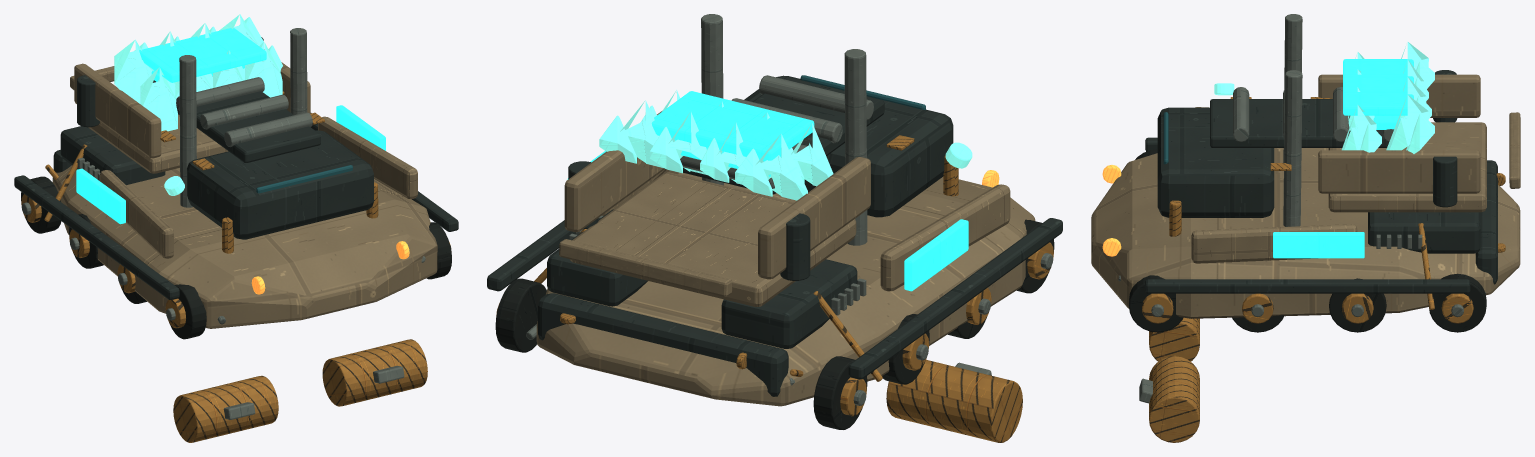
The model's file is drift_harvester.glb.
3 renders of one model, left to right at view 1: azimuth 30°, elevation 25°; view 2: azimuth 150°, elevation 25°; view 3: azimuth 270°, elevation 25°, orthographic. The views are drawn at different scales.
Parts seen in each view (by area): view 1: Faction detail · Vehicle / armor.007, Faction detail · Vehicle / dark.007, Faction detail · Vehicle / armor_light.007, Powered cutter drum.001, Powered cutter drum, Faction detail · Vehicle / steel.007, TeamColor, Faction detail · Vehicle / steel.001, Faction detail · Vehicle / rubber.007, TeamColor flank details, Faction detail · Vehicle / hazard.007, Faction detail · Vehicle / energy.001 (+8 smaller); view 2: Faction detail · Vehicle / armor.007, Faction detail · Vehicle / dark.007, Faction detail · Vehicle / armor_light.007, Powered cutter drum, Faction detail · Vehicle / rubber.007, TeamColor, Faction detail · Vehicle / steel.001, Faction detail · Vehicle / steel.007, Hinged mineral unloading gate, Faction detail · Vehicle / hazard.007, Faction detail · Vehicle / energy.005, TeamColor flank details (+5 smaller); view 3: Faction detail · Vehicle / armor.007, Faction detail · Vehicle / dark.007, Faction detail · Vehicle / armor_light.007, Faction detail · Vehicle / rubber.007, Powered cutter drum.001, Faction detail · Vehicle / steel.001, TeamColor, Faction detail · Vehicle / hazard.007, TeamColor flank details, Faction detail · Vehicle / steel.007, Powered cutter drum, Faction detail · Vehicle / energy.008 (+5 smaller).
Part boxes in pixels (x1=…): Faction detail · Vehicle / armor.007: x1=52, y1=49, x2=437, y2=328; Faction detail · Vehicle / dark.007: x1=14, y1=37, x2=458, y2=299; Faction detail · Vehicle / armor_light.007: x1=88, y1=114, x2=417, y2=258; Powered cutter drum.001: x1=322, y1=339, x2=427, y2=406; Powered cutter drum: x1=173, y1=375, x2=278, y2=442; Faction detail · Vehicle / steel.007: x1=21, y1=77, x2=450, y2=324; TeamColor: x1=139, y1=28, x2=266, y2=82; Faction detail · Vehicle / steel.001: x1=179, y1=28, x2=307, y2=207; Faction detail · Vehicle / rubber.007: x1=21, y1=176, x2=451, y2=339; TeamColor flank details: x1=76, y1=65, x2=385, y2=224; Faction detail · Vehicle / hazard.007: x1=21, y1=144, x2=451, y2=328; Faction detail · Vehicle / energy.001: x1=140, y1=67, x2=177, y2=131; Faction detail · Vehicle / armor.007: x1=536, y1=111, x2=1035, y2=406; Faction detail · Vehicle / dark.007: x1=487, y1=75, x2=1062, y2=396; Faction detail · Vehicle / armor_light.007: x1=570, y1=169, x2=1010, y2=306; Powered cutter drum: x1=886, y1=359, x2=1022, y2=442; Faction detail · Vehicle / rubber.007: x1=495, y1=219, x2=1054, y2=429; TeamColor: x1=651, y1=91, x2=814, y2=161; Faction detail · Vehicle / steel.001: x1=701, y1=14, x2=867, y2=245; Faction detail · Vehicle / steel.007: x1=497, y1=75, x2=1053, y2=405; Hinged mineral unloading gate: x1=559, y1=239, x2=732, y2=296; Faction detail · Vehicle / hazard.007: x1=496, y1=229, x2=1053, y2=416; Faction detail · Vehicle / energy.005: x1=735, y1=134, x2=807, y2=200; TeamColor flank details: x1=567, y1=140, x2=968, y2=291; Faction detail · Vehicle / armor.007: x1=1091, y1=74, x2=1520, y2=318; Faction detail · Vehicle / dark.007: x1=1145, y1=70, x2=1497, y2=293; Faction detail · Vehicle / armor_light.007: x1=1191, y1=107, x2=1486, y2=263; Faction detail · Vehicle / rubber.007: x1=1129, y1=149, x2=1486, y2=332; Powered cutter drum.001: x1=1149, y1=356, x2=1199, y2=442; Faction detail · Vehicle / steel.001: x1=1283, y1=14, x2=1302, y2=226; TeamColor: x1=1343, y1=59, x2=1413, y2=115; Faction detail · Vehicle / hazard.007: x1=1142, y1=223, x2=1473, y2=323; TeamColor flank details: x1=1273, y1=115, x2=1400, y2=258; Faction detail · Vehicle / steel.007: x1=1118, y1=87, x2=1485, y2=317; Powered cutter drum: x1=1149, y1=317, x2=1199, y2=361; Faction detail · Vehicle / energy.008: x1=1386, y1=95, x2=1434, y2=153.
Size of the model in its own units: 3.14 by 3.38 by 3.87.
Materials: 11 (10 with a texture image).
